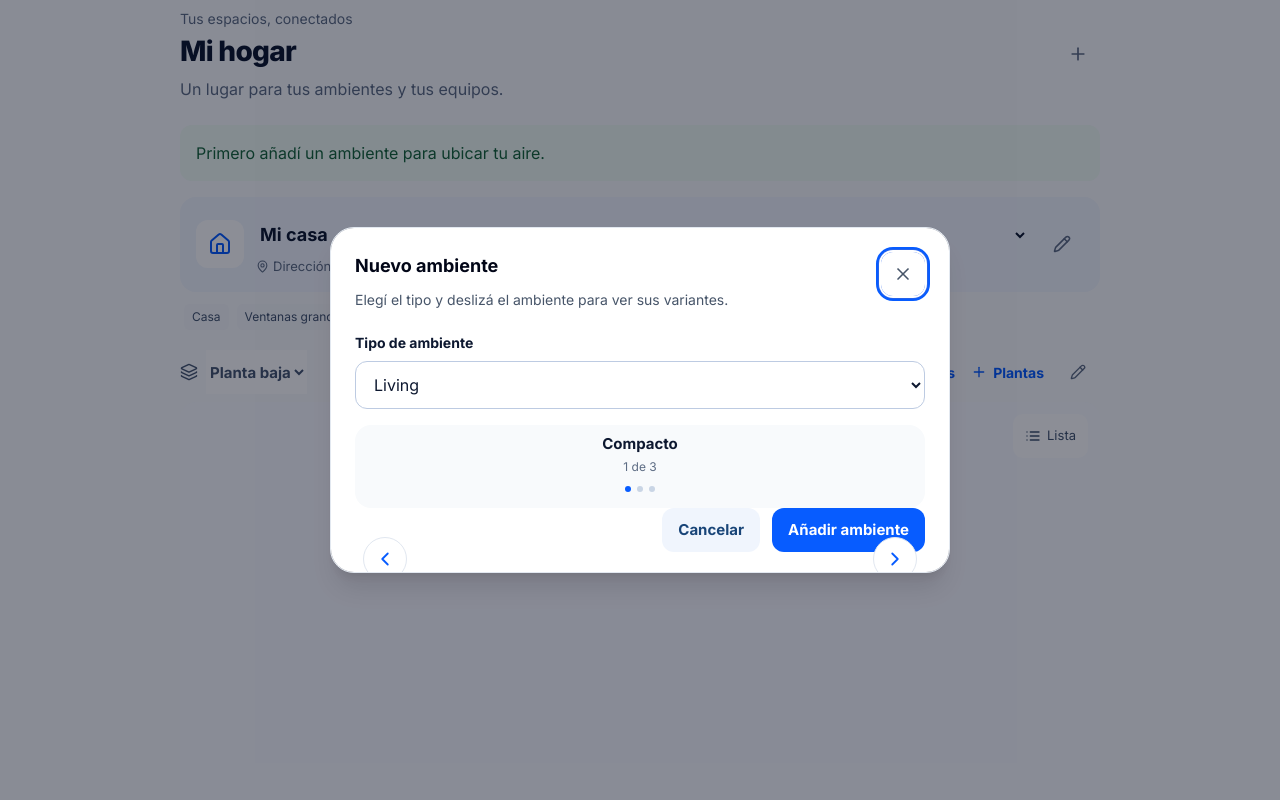
Test case: Hogar pending operation identity › opens the visual room picker when the equipment shortcut has an empty home
The image size is (1280, 800).
Expected: the dialog "Nuevo ambiente" is shown, [330,227,950,573]
Expected: the dropdown labelled "Tipo de ambiente" is shown, [355,361,925,409]
Click the button "Cancelar": [711, 530] box [662,508,760,552]
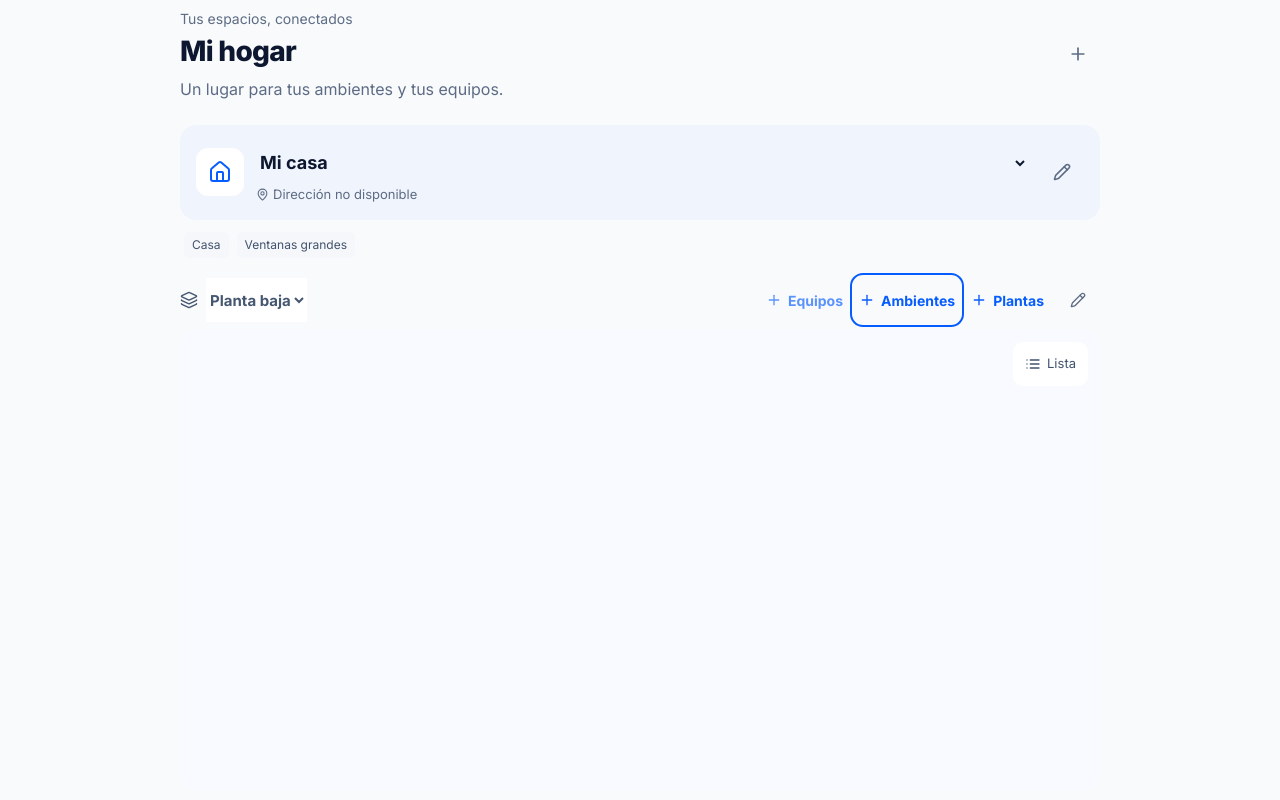
Expected: the dialog is gone
